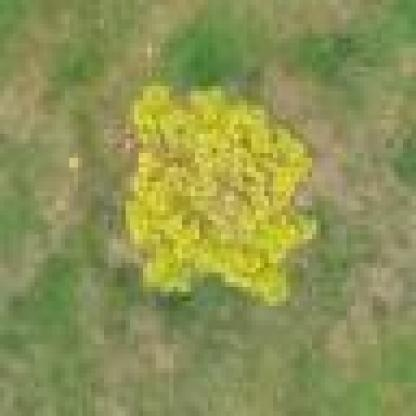Deciduous Tree: (115, 72, 327, 306)
